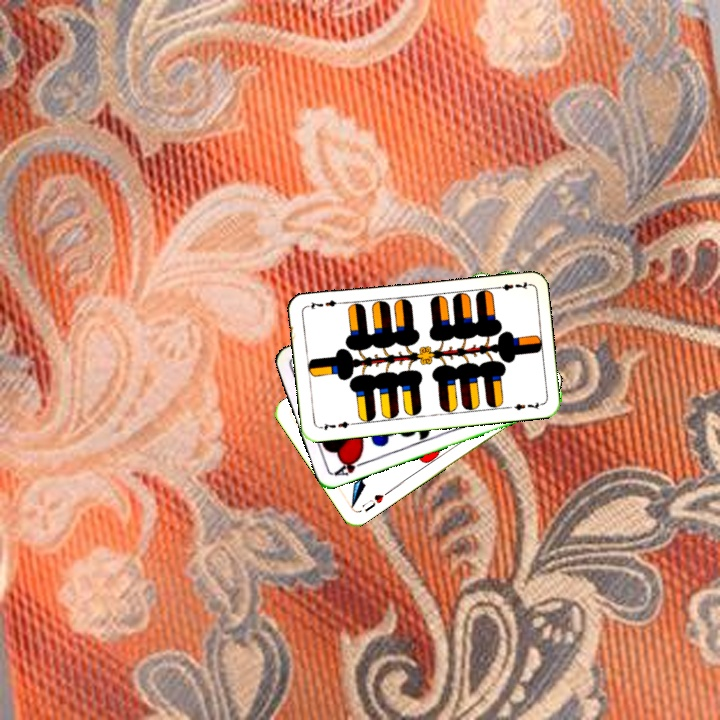E7: (316, 417, 356, 433), (491, 278, 531, 293)
HA: (331, 452, 370, 479)
HU: (358, 487, 392, 515)
